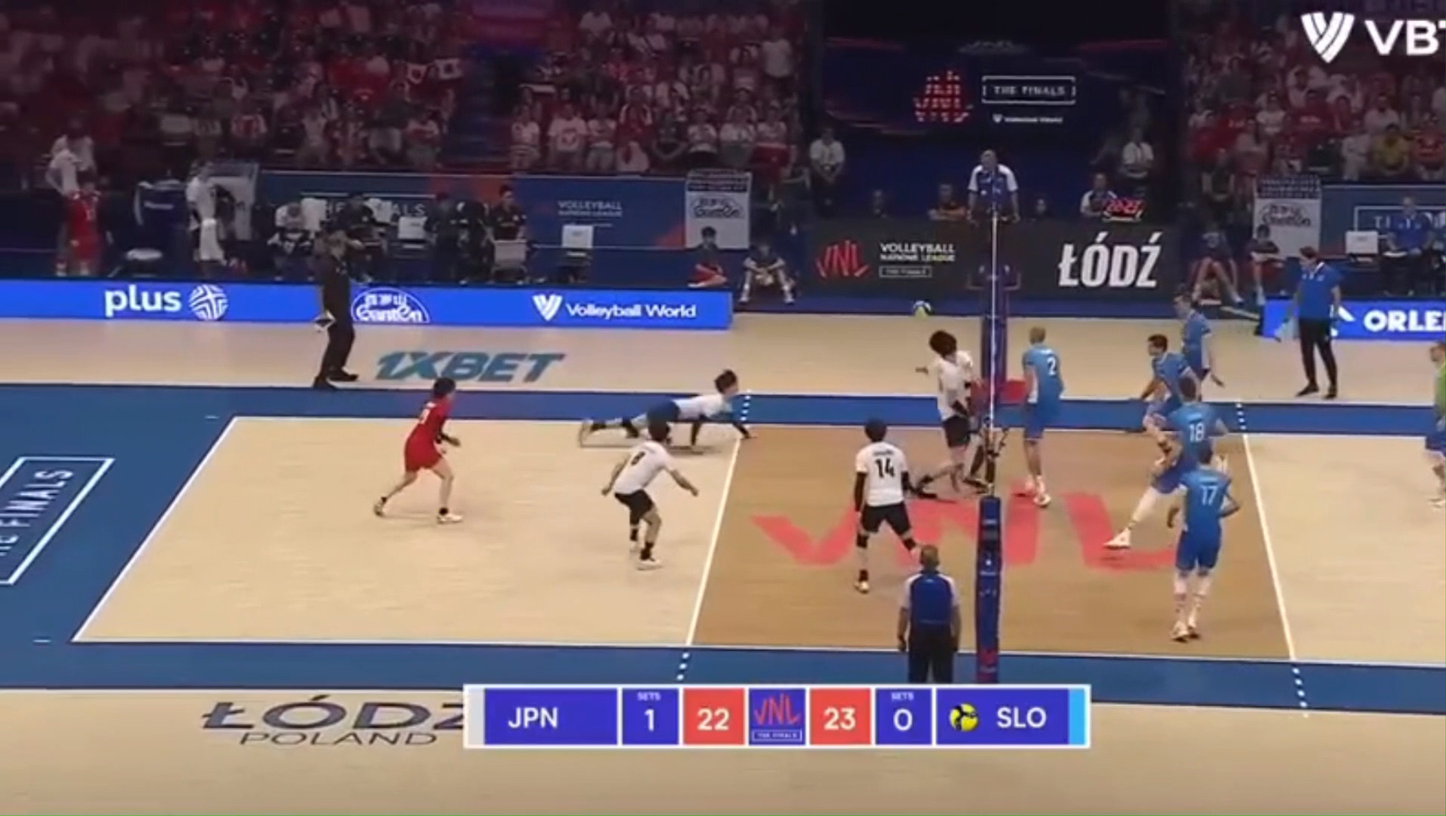ball: (912, 300, 932, 317)
player: (1106, 377, 1227, 549), (1166, 447, 1239, 642), (1021, 326, 1064, 506), (1140, 334, 1194, 428), (1173, 294, 1220, 384), (1423, 340, 1445, 505), (1110, 533, 1127, 548)
player 1: (602, 420, 698, 568), (579, 369, 750, 447), (374, 377, 460, 523), (853, 419, 917, 592), (915, 330, 972, 497), (955, 351, 1010, 451), (913, 363, 932, 375)
referee: (897, 545, 961, 682), (964, 146, 1021, 292), (1292, 246, 1340, 399), (313, 230, 357, 389)
